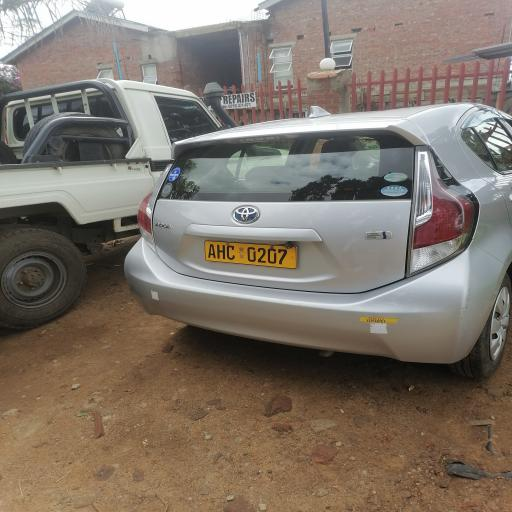number-plates: (200, 234, 298, 270)
